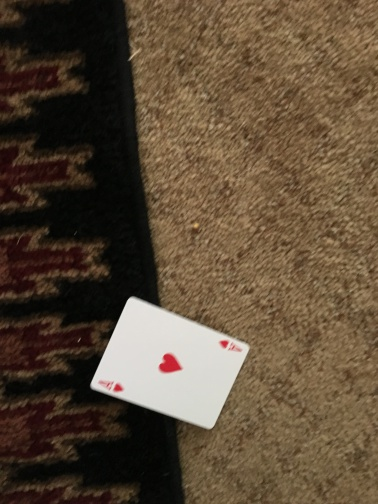ace: (88, 295, 252, 432)
